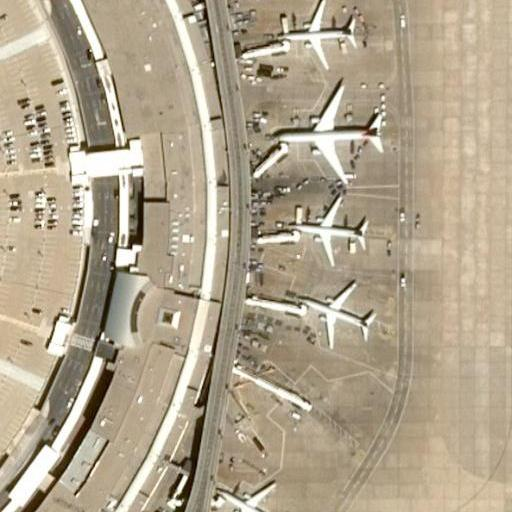Aircraft: (267, 76, 390, 180), (276, 189, 387, 271), (263, 0, 369, 69), (287, 278, 380, 346), (199, 473, 303, 512)
